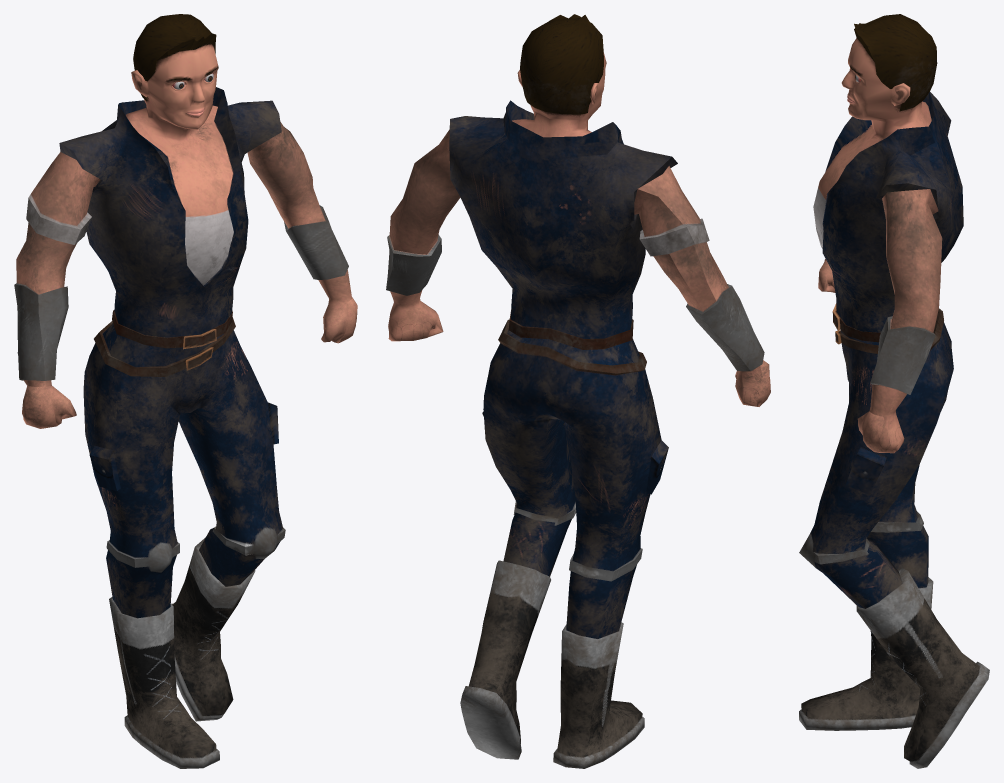
The model's file is Anim_andar_jugador.0029.obj.
The picture shows the model from 3 angles, left to right: view 1: azimuth 30°, elevation 25°; view 2: azimuth 150°, elevation 25°; view 3: azimuth 270°, elevation 25°; orthographic projection. The views are drawn at different scales.
Visible parts, largest first — view 1: Anim_andar_jugador; view 2: Anim_andar_jugador; view 3: Anim_andar_jugador.
Part boxes in pixels (x1,y1,x2,y2): Anim_andar_jugador: (14,14,357,768); Anim_andar_jugador: (386,14,770,768); Anim_andar_jugador: (799,14,989,768).
Size of the model in its own units: 4.99 by 9.8 by 2.34.
